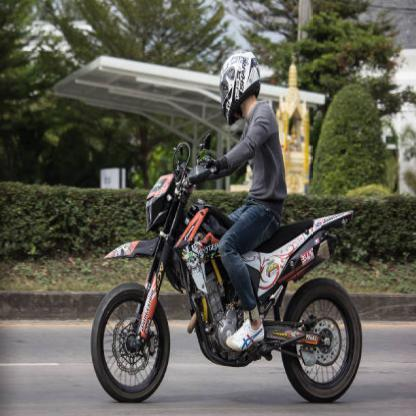Motorcycle: (86, 139, 371, 409)
